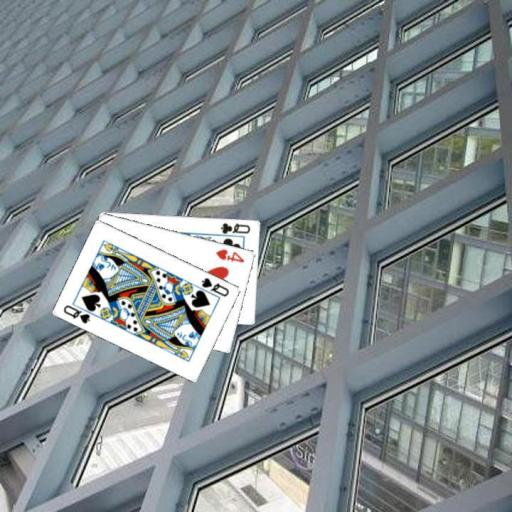4H: (213, 245, 246, 264)
QC: (218, 219, 252, 235)
QS: (199, 274, 231, 298), (60, 301, 92, 325)
